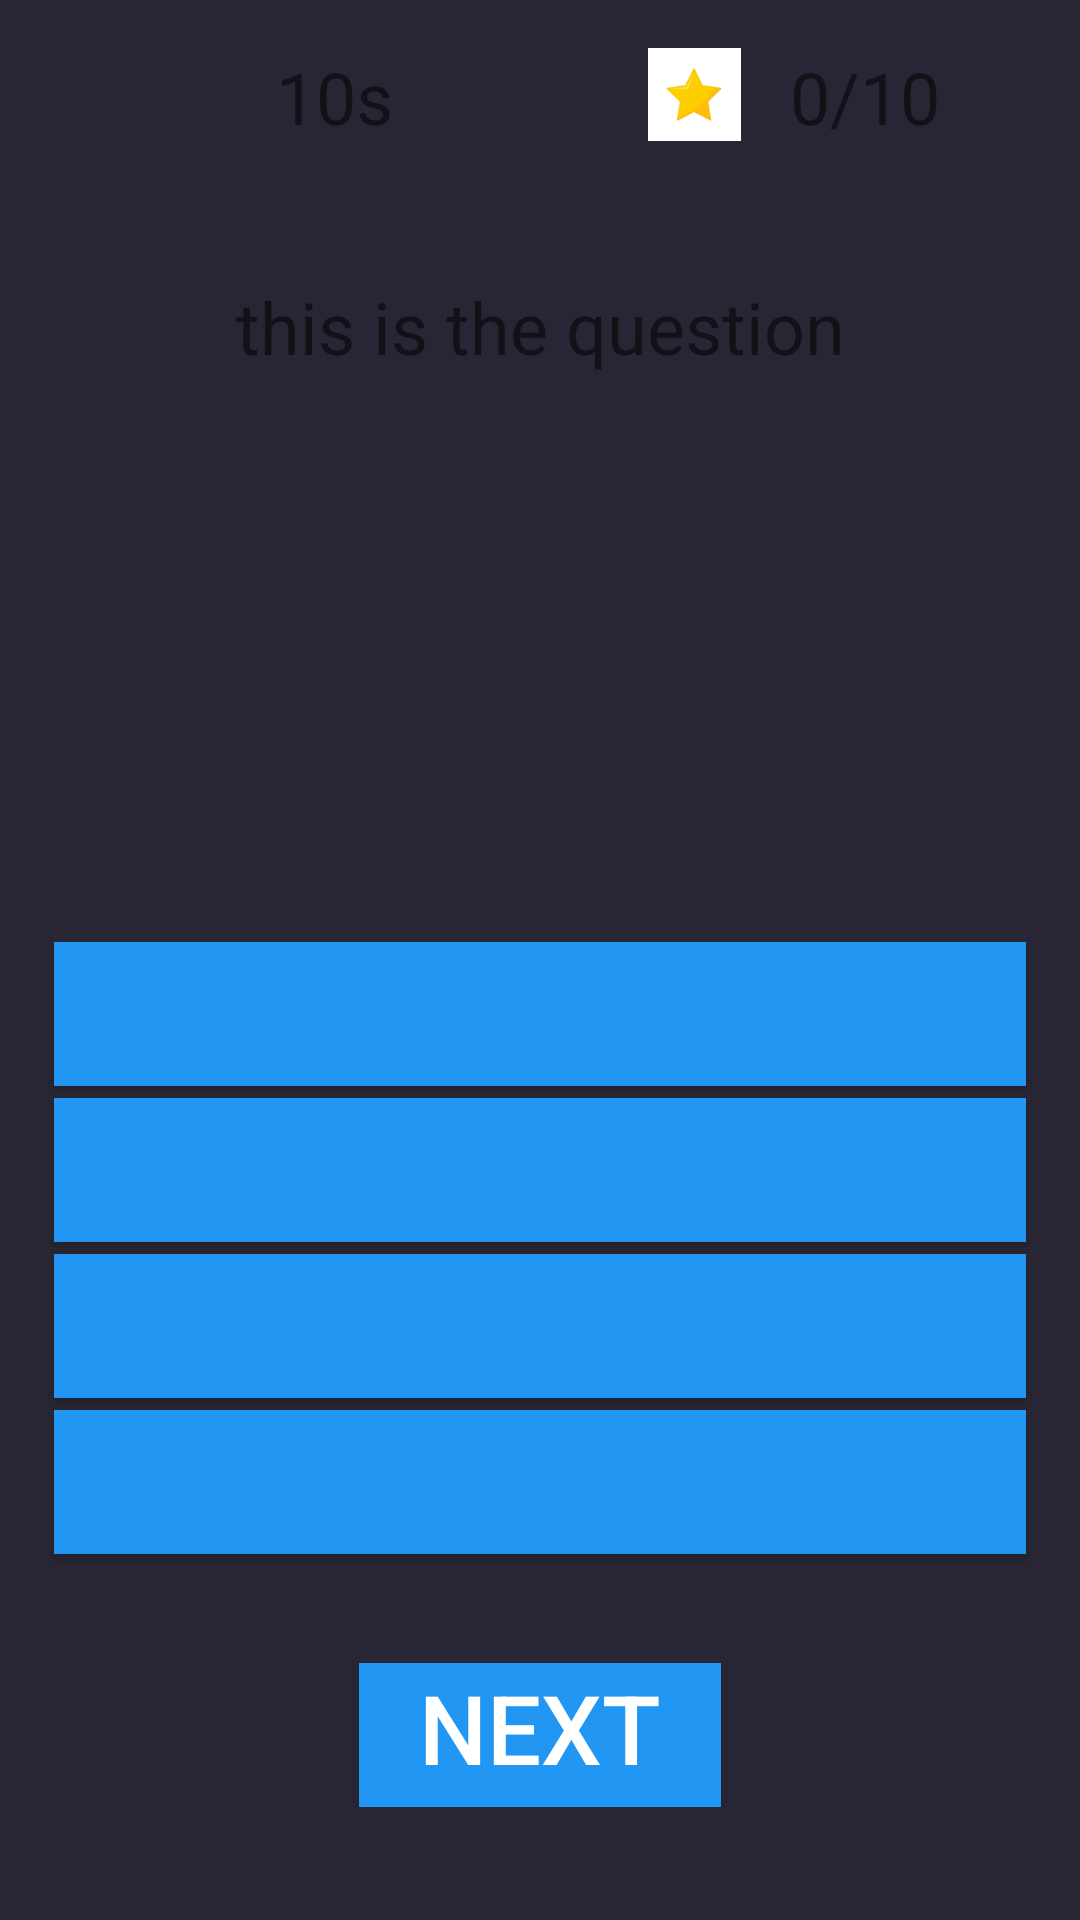

Point at icon controls on the screen. Image size 1080px×1920px, points as (x,y).
star: (694,94)
